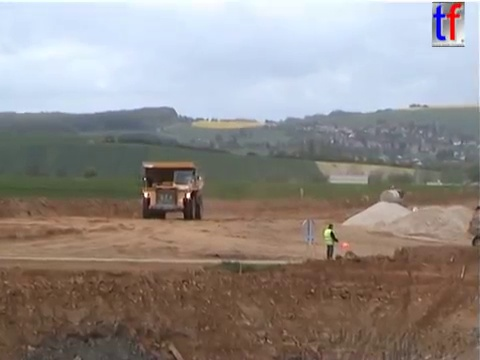excavator: (464, 201, 479, 255)
truck: (136, 158, 205, 222), (378, 183, 405, 208)
worker: (322, 221, 341, 262)
